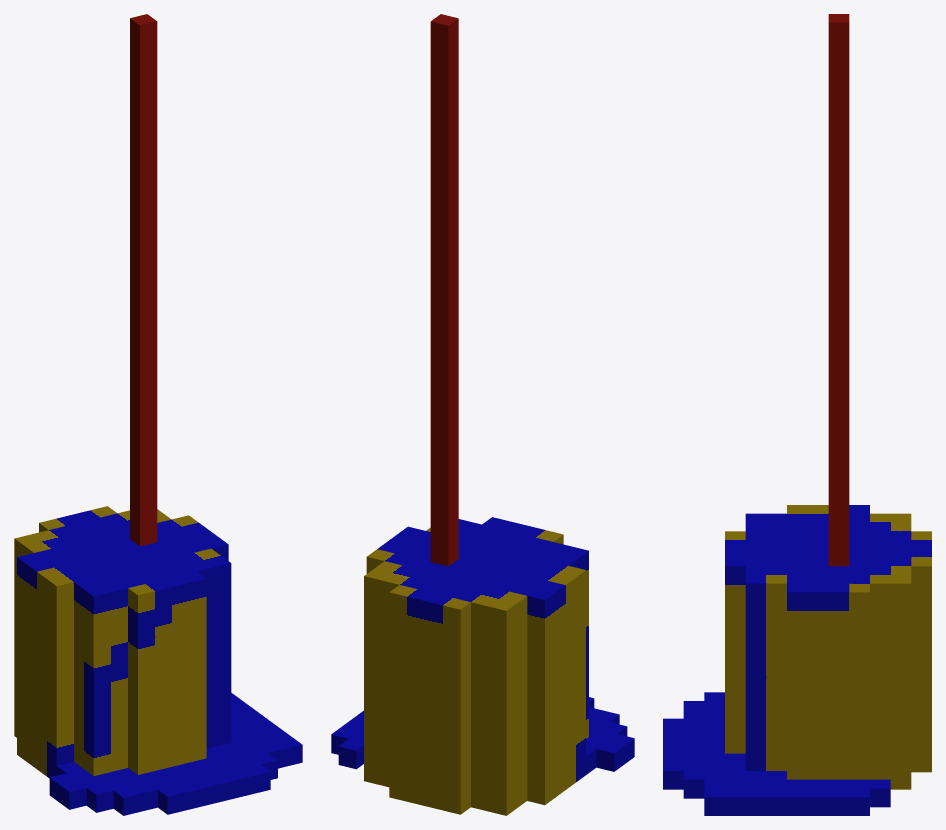
The model's file is Mop.fbx.
The picture shows the model from 3 angles, left to right: view 1: azimuth 30°, elevation 25°; view 2: azimuth 150°, elevation 25°; view 3: azimuth 270°, elevation 25°; orthographic projection. The views are drawn at different scales.
Parts seen in each view (by area): view 1: Matrix; view 2: Matrix; view 3: Matrix.
Boxes of the visible parts, box(x1,y1,x2,y2) form: Matrix: box(14, 14, 302, 815); Matrix: box(331, 14, 634, 815); Matrix: box(663, 14, 931, 815).
Size of the model in its own units: 13 by 40 by 13.
Materials: 1 (1 with a texture image).
